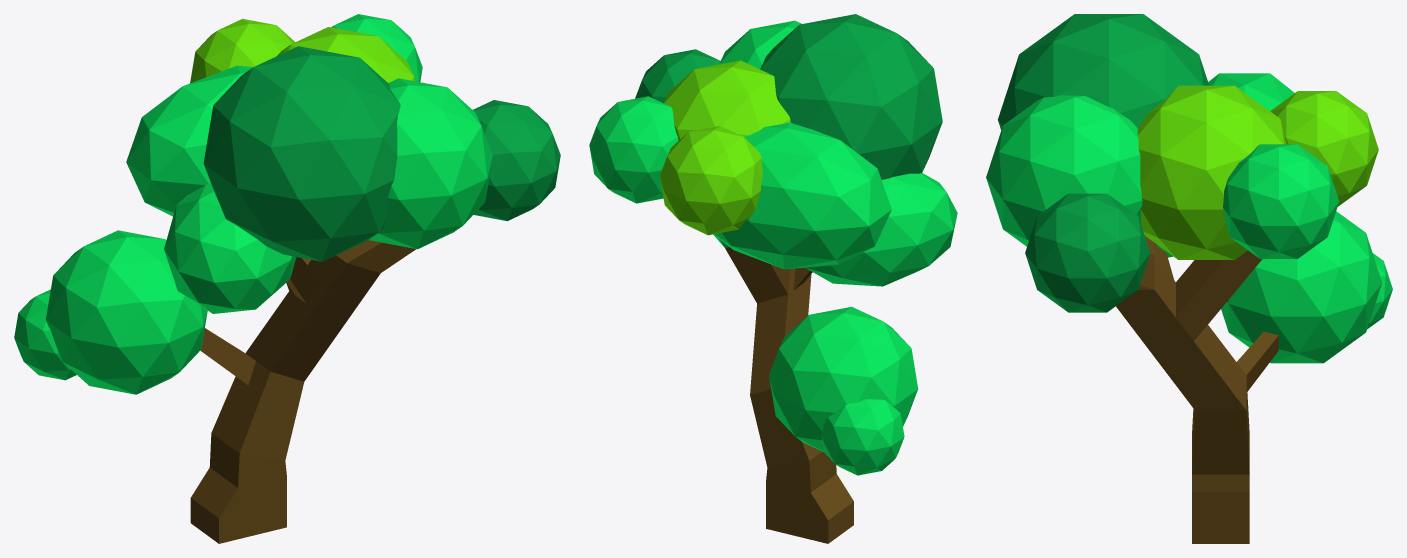
File: tree1.glb
The picture shows the model from 3 angles, left to right: view 1: azimuth 30°, elevation 25°; view 2: azimuth 150°, elevation 25°; view 3: azimuth 270°, elevation 25°; orthographic projection. The views are drawn at different scales.
Visible parts, largest first — view 1: Cube; view 2: Cube; view 3: Cube.
Boxes of the visible parts, bbox=[...] form: Cube: bbox=[14, 14, 560, 543]; Cube: bbox=[589, 14, 957, 543]; Cube: bbox=[986, 14, 1392, 543].
Bounding box in the file's own units: 16.5 × 19.76 × 14.11.
